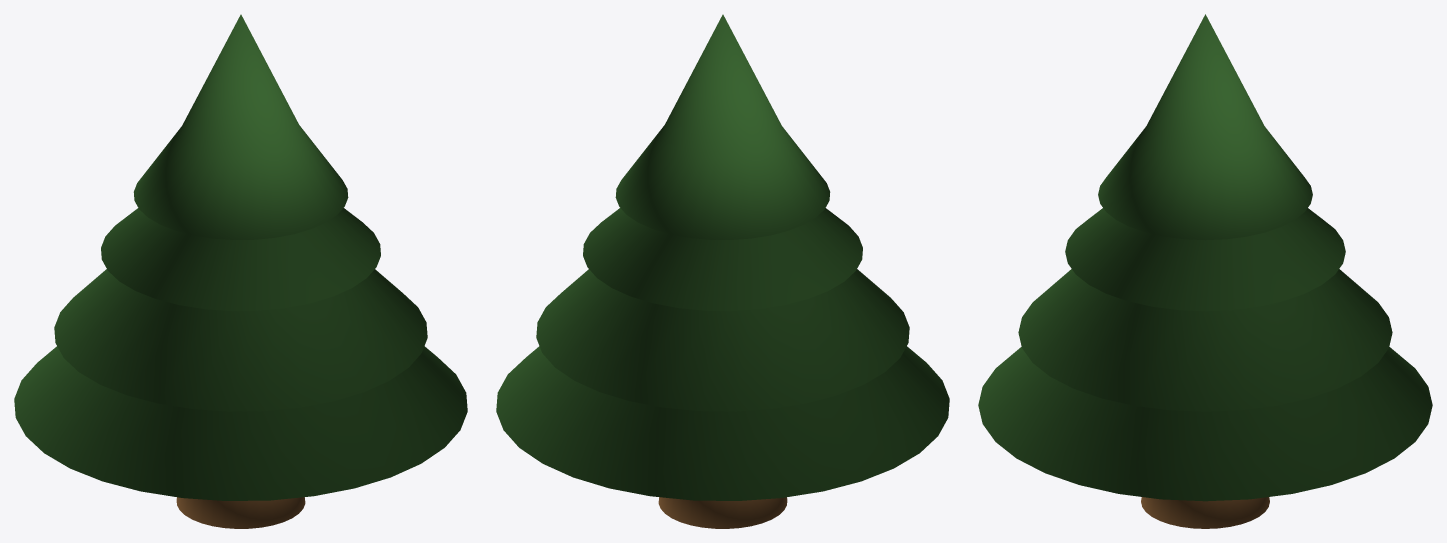
File: tree.glb
The picture shows the model from 3 angles, left to right: view 1: azimuth 30°, elevation 25°; view 2: azimuth 150°, elevation 25°; view 3: azimuth 270°, elevation 25°; orthographic projection.
Parts seen in each view (by area): view 1: tree; view 2: tree; view 3: tree.
Boxes of the visible parts, <box> form: tree: <box>14,14,467,528</box>; tree: <box>496,14,949,528</box>; tree: <box>978,14,1432,528</box>.
Bounding box in the file's own units: 8.04 × 9.52 × 8.04.
1 material, 1 textured.
